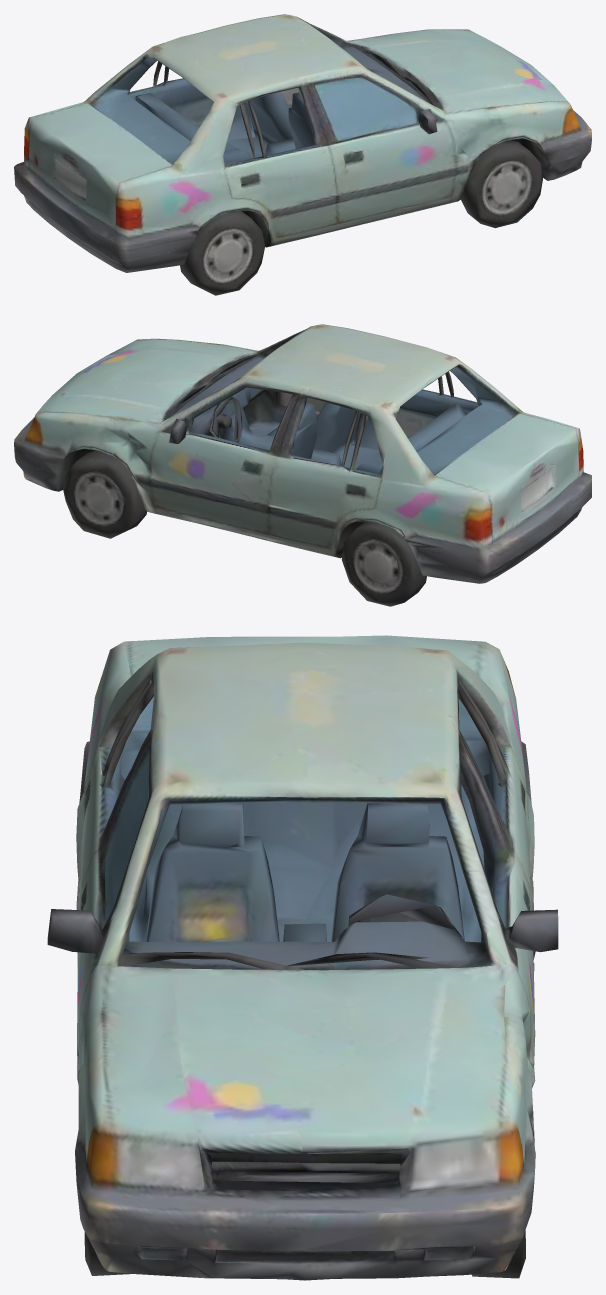
The model's file is parked_car.glb.
3 renders of one model, top to bottom at view 1: azimuth 30°, elevation 25°; view 2: azimuth 150°, elevation 25°; view 3: azimuth 270°, elevation 25°, orthographic. The views are drawn at different scales.
Visible parts, largest first — view 1: tripo_node_ef519ca1-dd91-4a15-9d5c-e6fc2b4adfda; view 2: tripo_node_ef519ca1-dd91-4a15-9d5c-e6fc2b4adfda; view 3: tripo_node_ef519ca1-dd91-4a15-9d5c-e6fc2b4adfda.
Part boxes in pixels (x1,y1,x2,y2): tripo_node_ef519ca1-dd91-4a15-9d5c-e6fc2b4adfda: (14,14,591,295); tripo_node_ef519ca1-dd91-4a15-9d5c-e6fc2b4adfda: (14,324,591,606); tripo_node_ef519ca1-dd91-4a15-9d5c-e6fc2b4adfda: (47,635,558,1280).
Size of the model in its own units: 1 by 0.3597 by 0.4498.
1 material, 1 textured.
